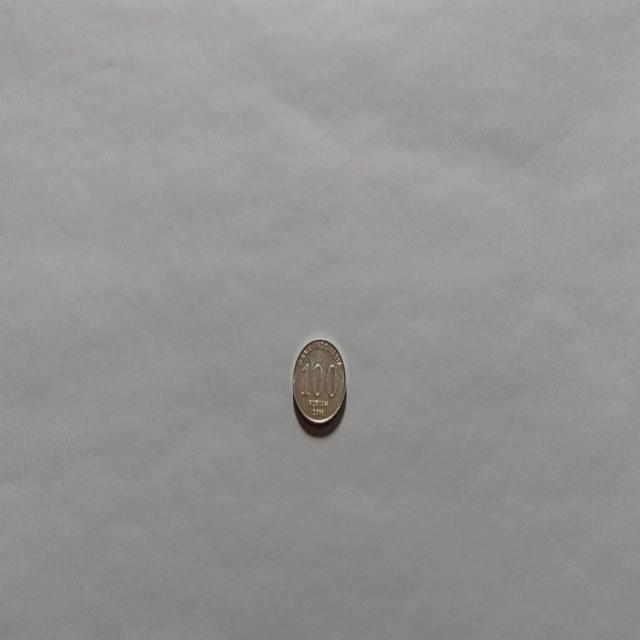seratus rupiah: (291, 336, 347, 428)
